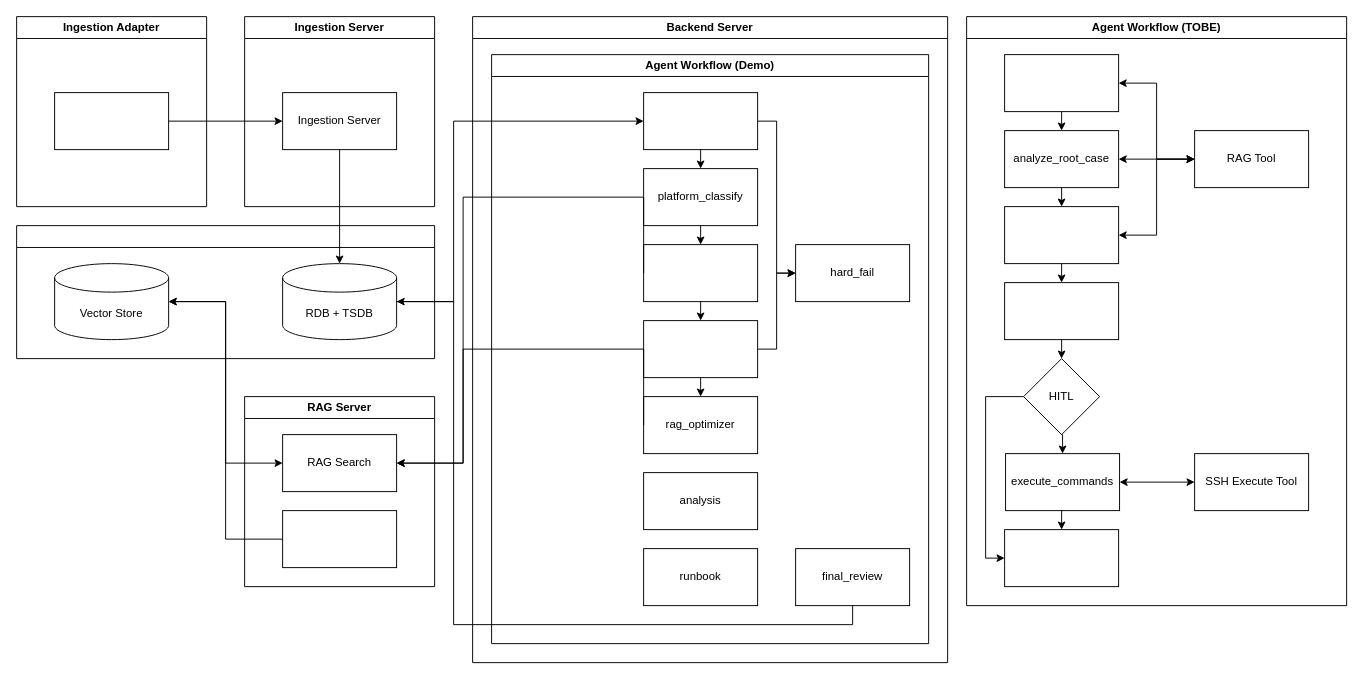
Some shapes in this 1363 by 679 pixel diagram are drawn without their labels. Each missing label, with the centre of its shape:
detect_incident: point (1061, 83)
generate_report: point (1061, 558)
generate_runbook: point (1061, 235)
inspection_fetch: point (700, 121)
inspection_judge: point (700, 349)
inspection_rag: point (700, 273)
RAG Admin: point (339, 539)
Raw Data: point (111, 121)
review_and_approve: point (1061, 311)
Storage Layer: point (225, 292)
